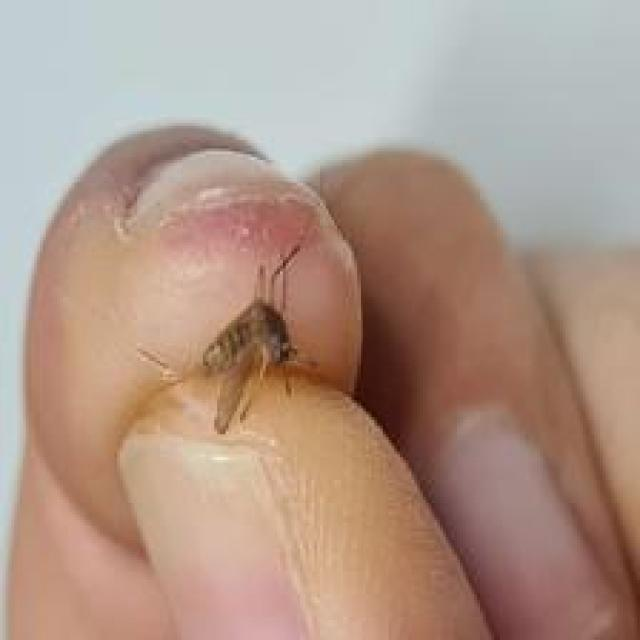Culex: (137, 240, 320, 434)
